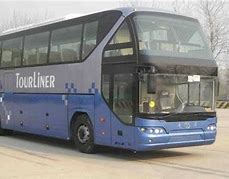bigcar: (0, 10, 217, 153)
